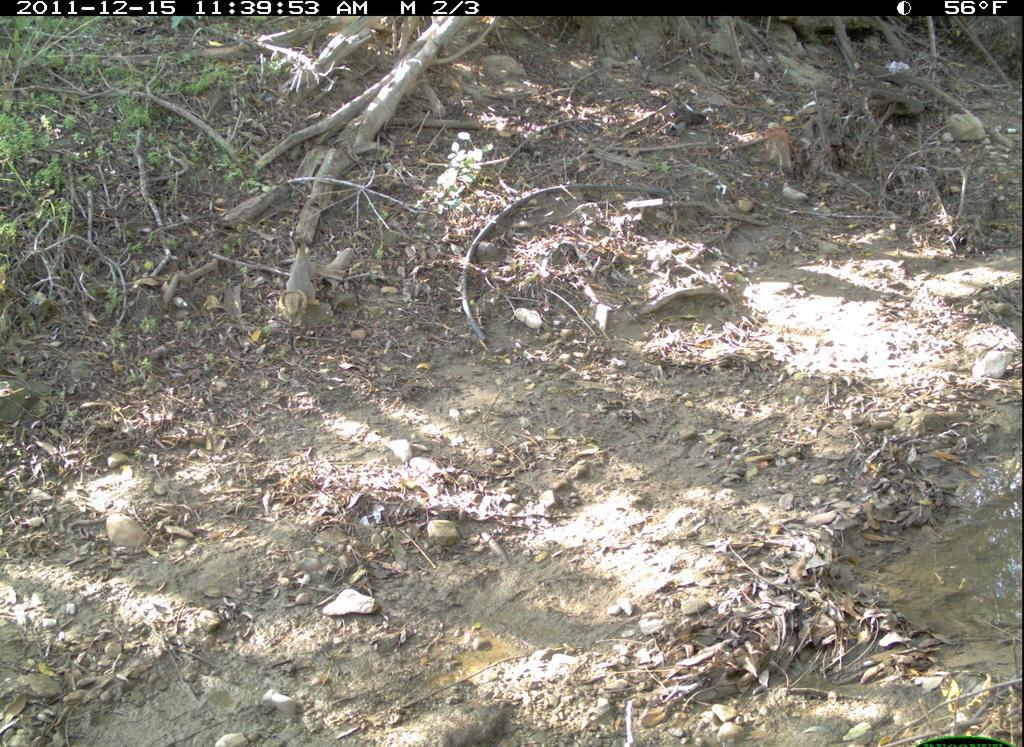squirrel: (269, 232, 345, 350)
